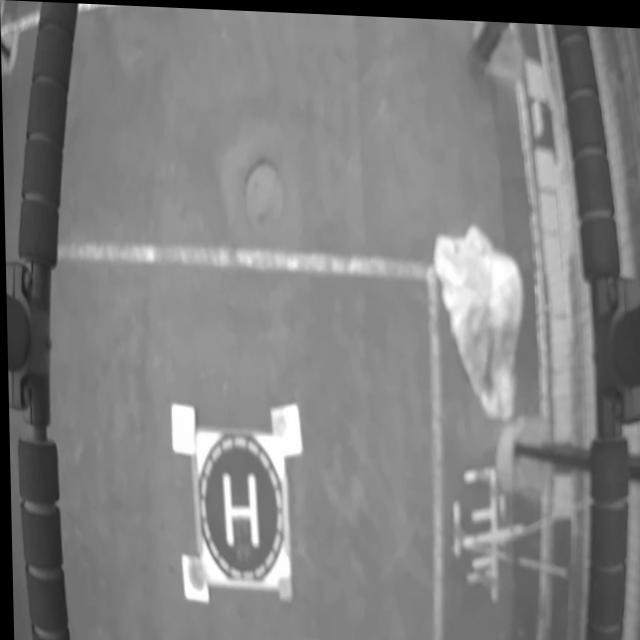Helipad: (220, 469, 259, 547)
